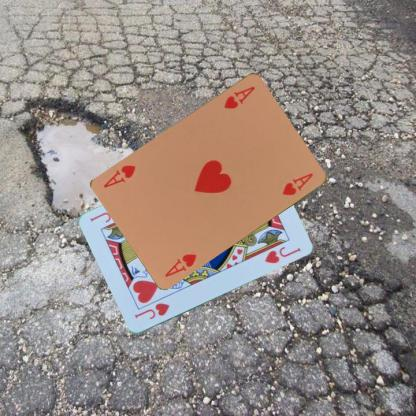Ah: (162, 250, 198, 278), (221, 84, 256, 110)
Jh: (132, 300, 171, 322)
